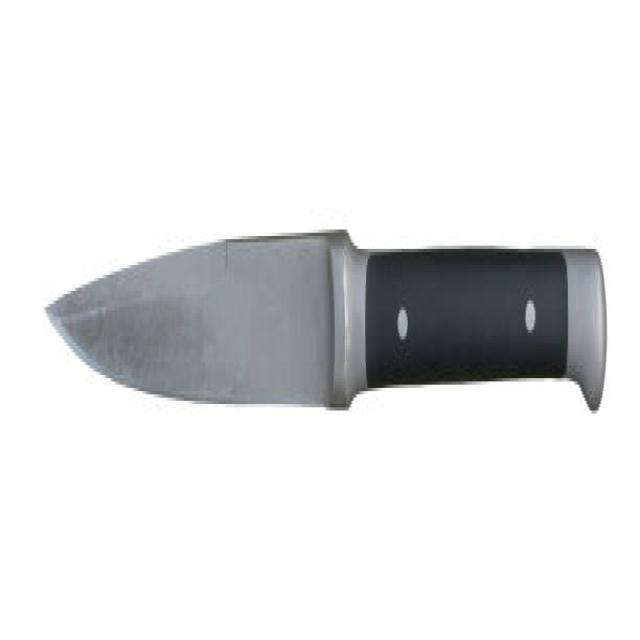knife: (44, 222, 610, 434)
